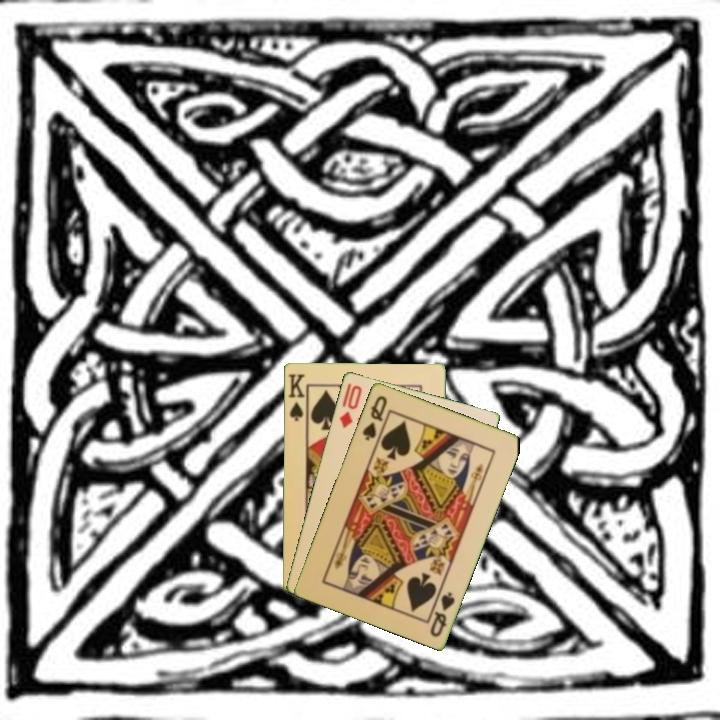10d: (336, 379, 365, 431)
Ks: (285, 370, 307, 424)
Qs: (426, 588, 458, 640), (359, 392, 390, 443)
